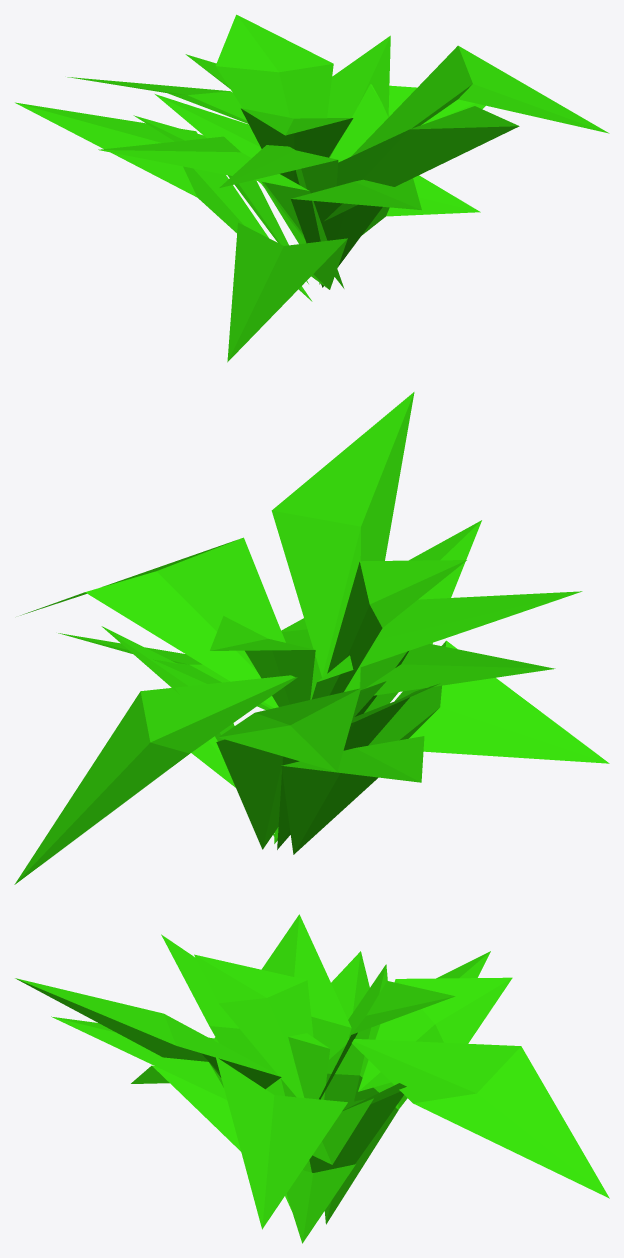
The model's file is Shrub1.glb.
3 renders of one model, top to bottom at view 1: azimuth 30°, elevation 25°; view 2: azimuth 150°, elevation 25°; view 3: azimuth 270°, elevation 25°, orthographic. The views are drawn at different scales.
Parts seen in each view (by area): view 1: Shrub1; view 2: Shrub1; view 3: Shrub1.
Boxes of the visible parts, x1,y1,x2,y2 form: Shrub1: (15,14,609,362); Shrub1: (14,392,609,884); Shrub1: (15,914,609,1243).
Size of the model in its own units: 1.66 by 0.8983 by 1.82.
